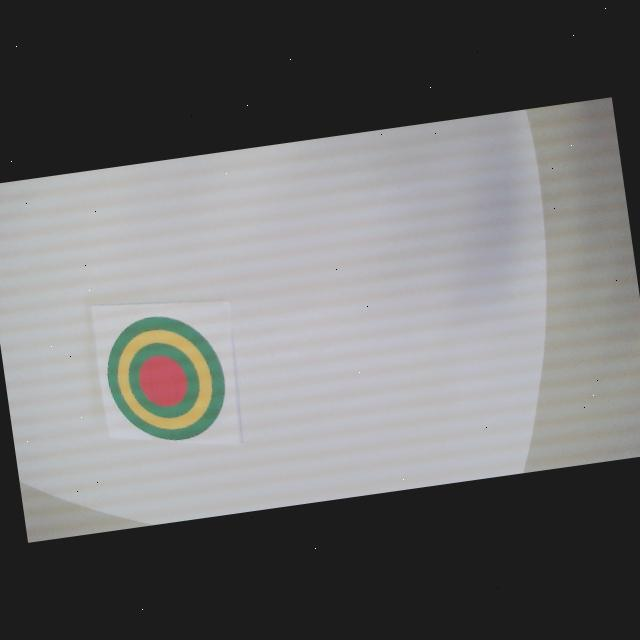COGNITIVE: (100, 308, 233, 450)
